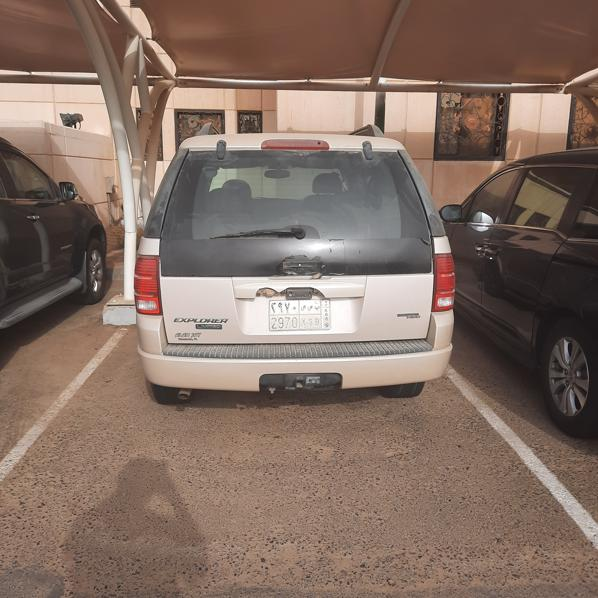numberplate: (269, 299, 331, 330)
